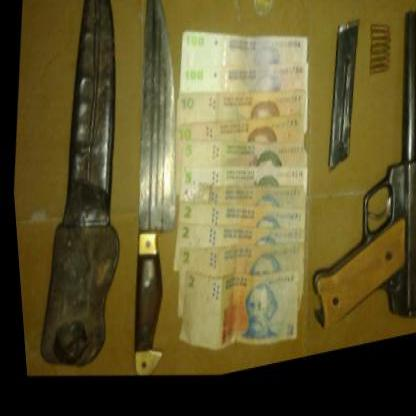knife: (92, 0, 213, 384)
